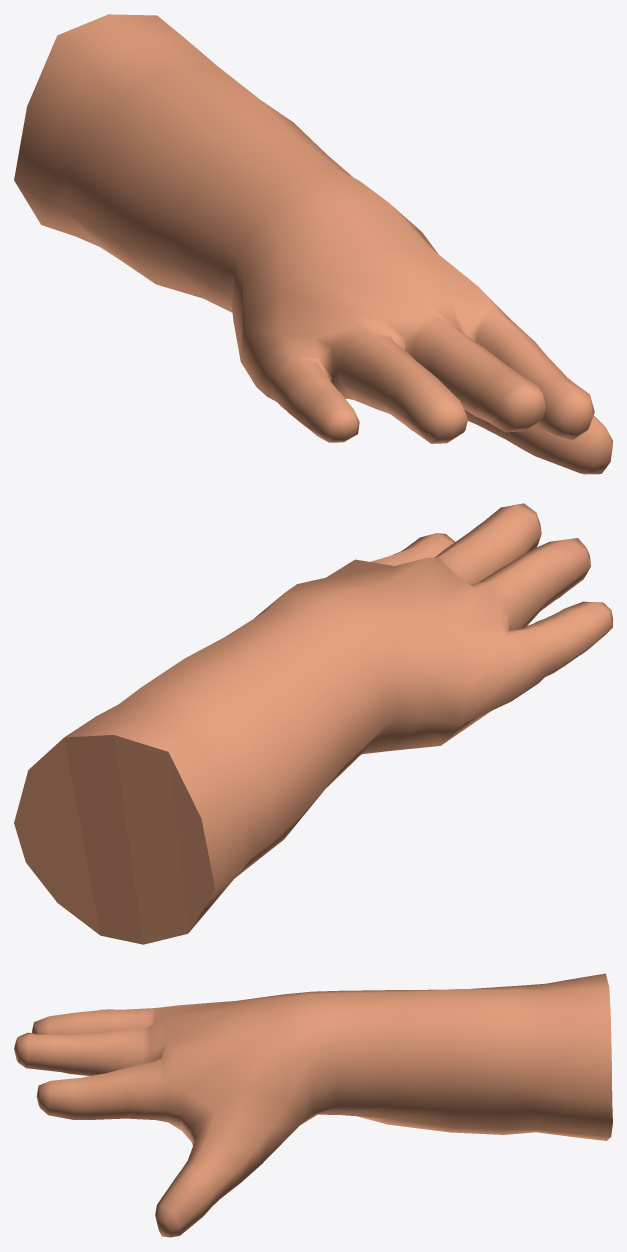
3 views of the same model, one above another, from view 1: azimuth 30°, elevation 25°; view 2: azimuth 150°, elevation 25°; view 3: azimuth 270°, elevation 25° (orthographic). The views are drawn at different scales.
Visible parts, largest first — view 1: right_hand; view 2: right_hand; view 3: right_hand.
Part boxes in pixels (x1,y1,x2,y2): right_hand: (14,14,612,474); right_hand: (14,503,612,944); right_hand: (14,973,612,1237).
Size of the model in its own units: 0.1507 by 0.1155 by 0.3286.
